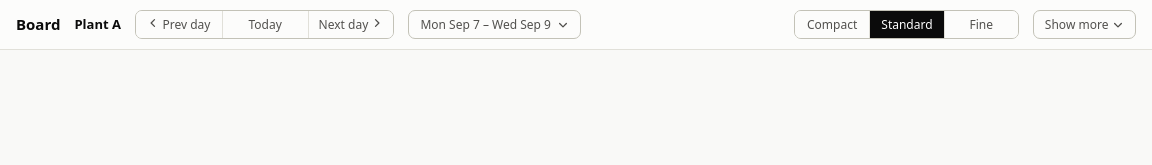
Scenario: the save control's rights (R-356) › an admin is offered Copy week even before the place answer lands
Click the button "Show more": x=1084, y=25 [1033, 10, 1136, 39]
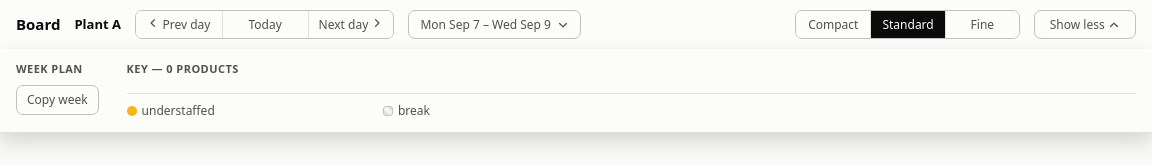
Check: the button "Copy week" is shown, box [16, 85, 99, 115]
